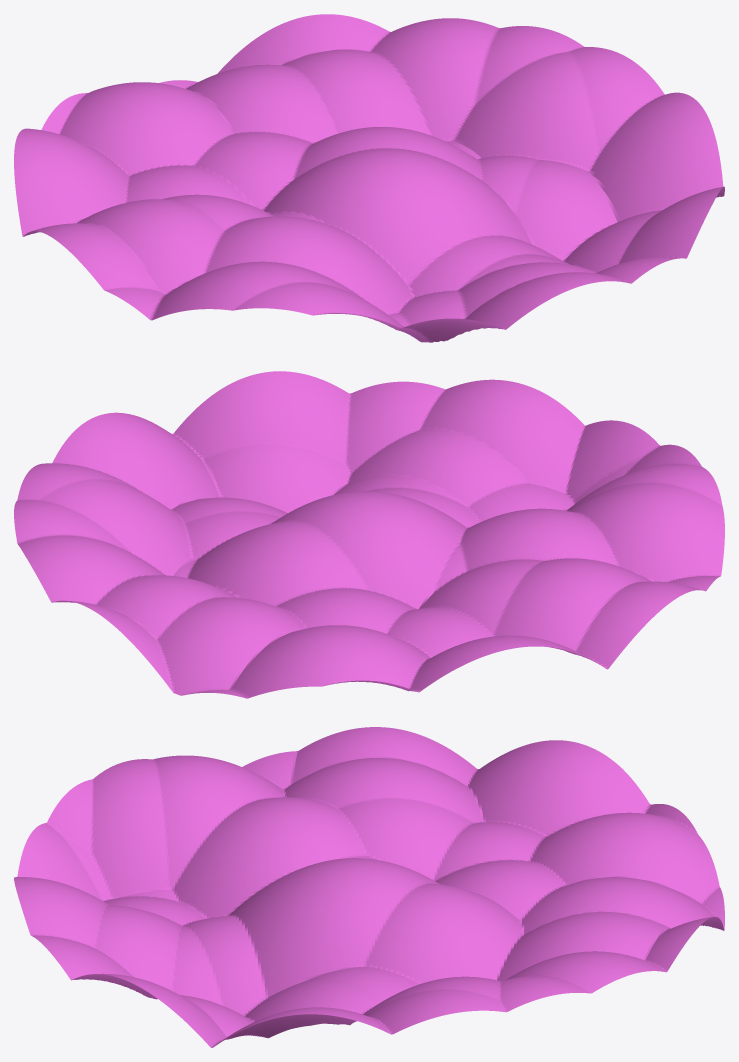
The model's file is RellenoDeCaldero2.fbx.
The picture shows the model from 3 angles, top to bottom: view 1: azimuth 30°, elevation 25°; view 2: azimuth 150°, elevation 25°; view 3: azimuth 270°, elevation 25°; orthographic projection.
Visible parts, largest first — view 1: Plane.002; view 2: Plane.002; view 3: Plane.002.
Boxes of the visible parts, <box> form: Plane.002: <box>14,14,724,342</box>; Plane.002: <box>14,371,724,698</box>; Plane.002: <box>14,727,724,1047</box>.
Size of the model in its own units: 117 by 16.19 by 117.
